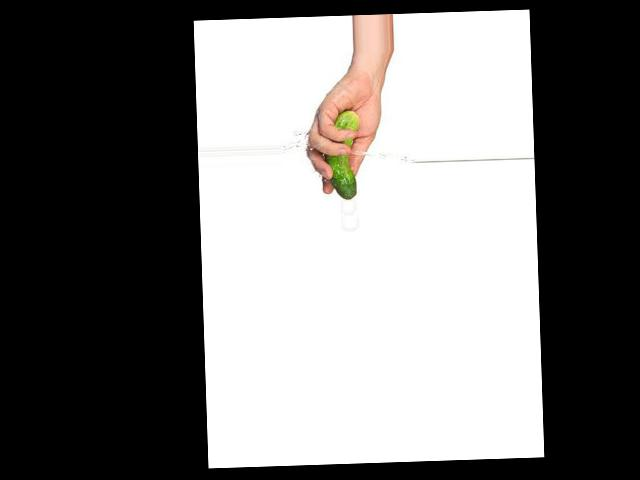cucumber: (325, 110, 360, 200)
